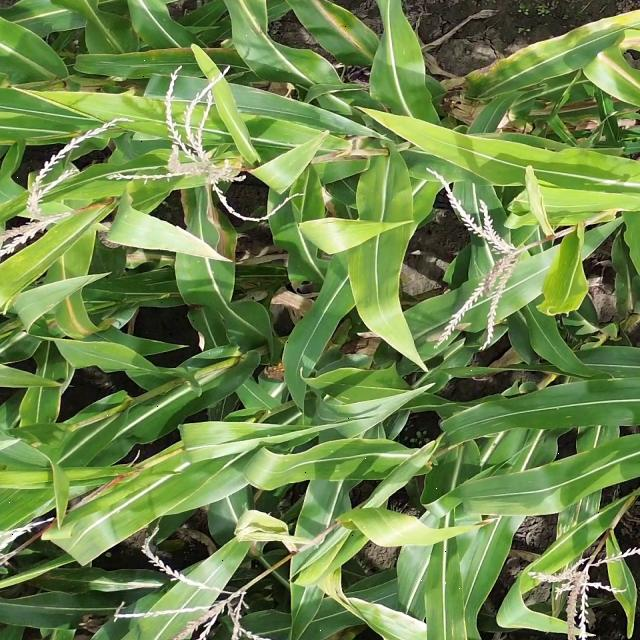gray-leaf-spot: (56, 565, 143, 593), (552, 492, 602, 539), (95, 54, 184, 76), (454, 411, 520, 433), (549, 252, 575, 304), (128, 267, 178, 288)
northern-leaf-blight: (190, 184, 234, 264), (312, 1, 366, 54), (595, 33, 640, 92), (58, 286, 96, 336)
